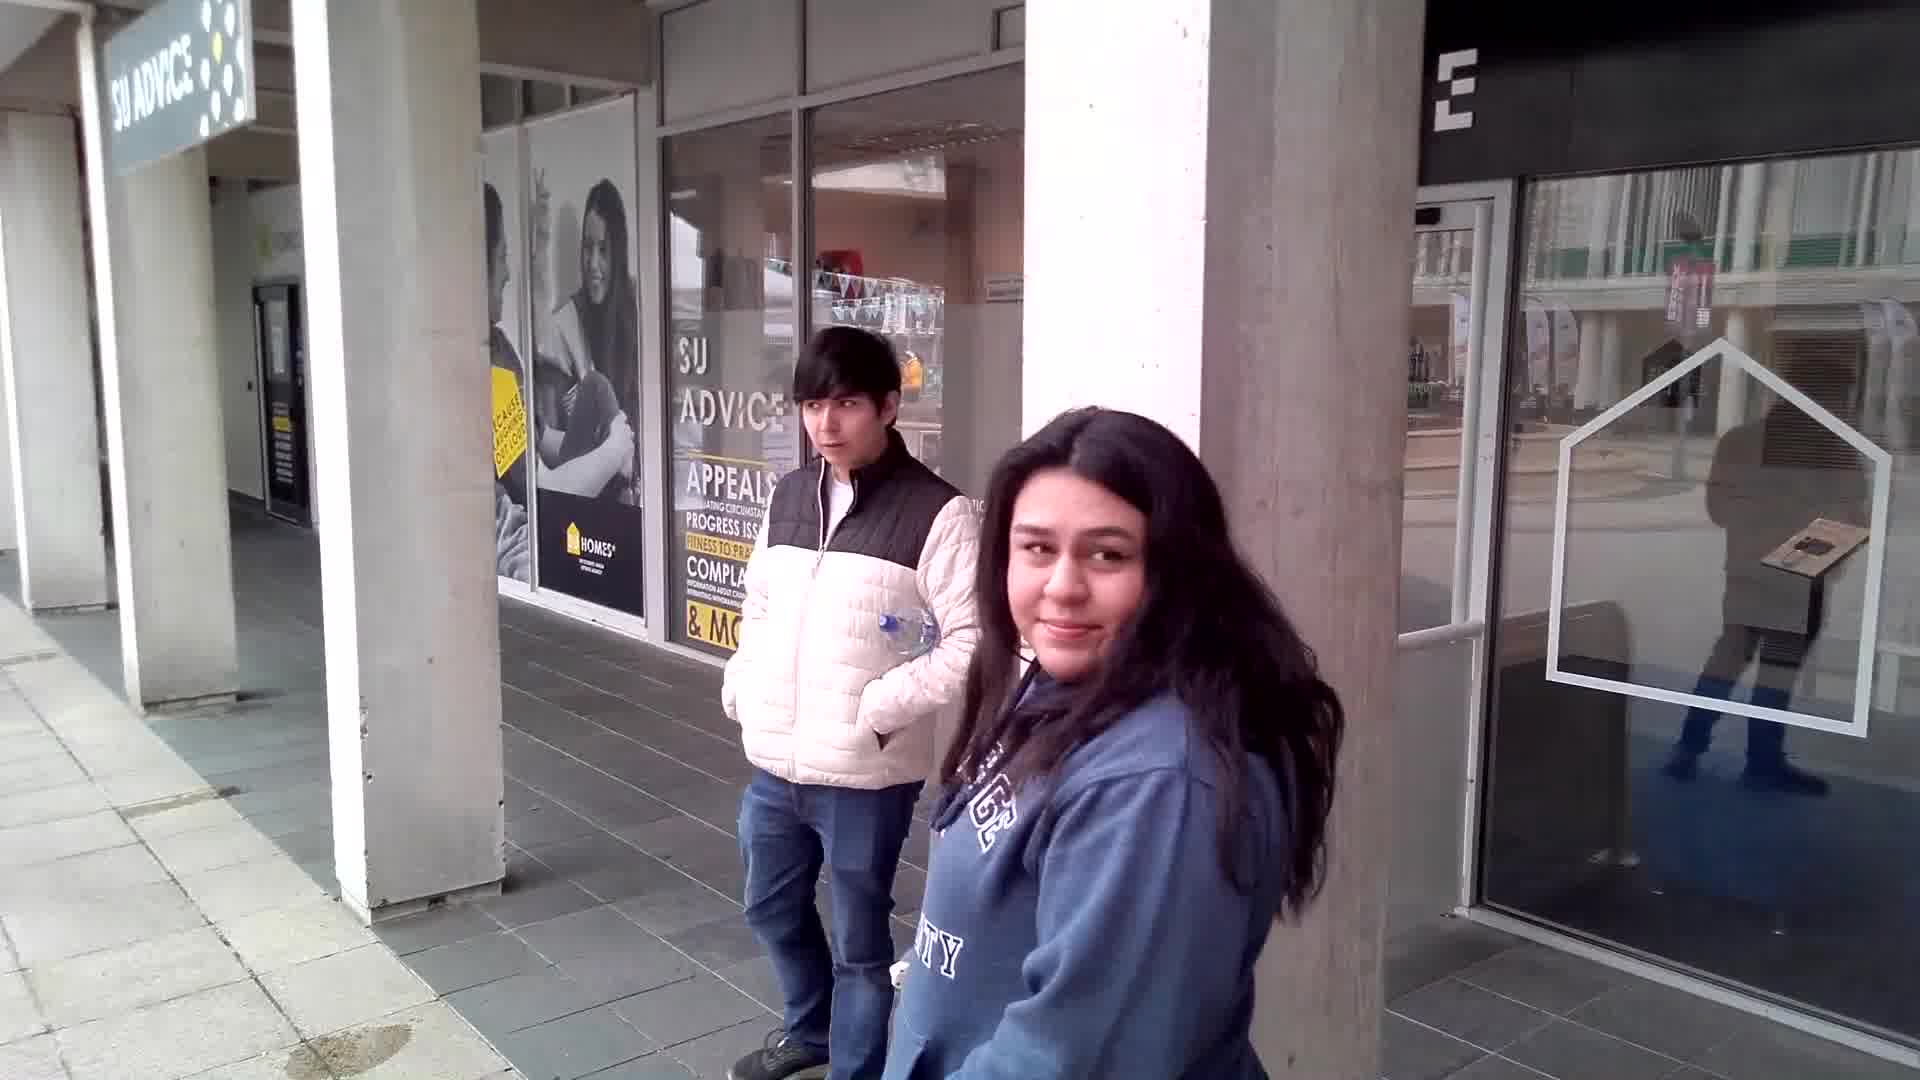Person: (965, 409, 1292, 1080), (760, 338, 904, 1080)
